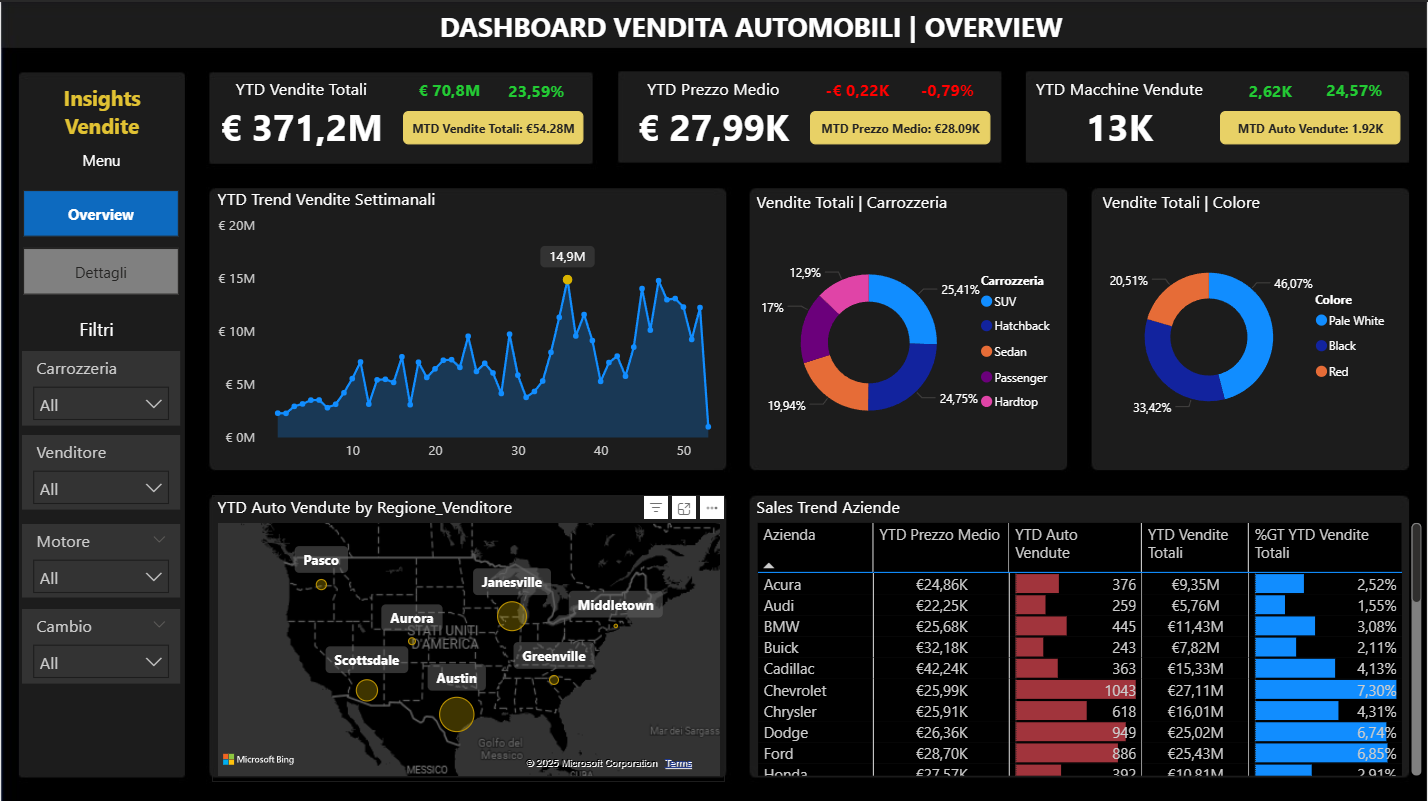

The page's visual inventory and layout, read from the dashboard file:
{"tool":"powerbi","page":{"name":"Overview","canvas":[1280,720],"ordinal":0},"visuals":[{"type":"card","title":"YTD Vendite Totali","fields":{"Values":["_misure.YTD Vendite Totali"]},"box":[189,67,160.6,69.7],"z":0},{"type":"card","fields":{"Values":["_misure.Differenza Vendite"]},"box":[363.6,67.3,78.1,27.8],"z":1000},{"type":"card","fields":{"Values":["_misure.YoY Crescita"]},"box":[441.3,67,78,28.4],"z":2000},{"type":"card","fields":{"Values":["_misure.Testo MYTD"]},"box":[361.3,98.1,162.3,30.3],"z":3000},{"type":"card","title":"YTD Prezzo Medio","fields":{"Values":["_misure.YTD Prezzo Medio"]},"box":[559.3,66.9,160.5,69.7],"z":4000},{"type":"card","fields":{"Values":["_misure.Prezzo Medio Differenza"]},"box":[729.9,66.9,77.9,27.5],"z":5000},{"type":"card","fields":{"Values":["_misure.YoY Prezzo Medio"]},"box":[810.5,66,77.9,28.4],"z":6000},{"type":"card","fields":{"Values":["_misure.Testo MTD Prezzo Medio"]},"box":[726.2,98.1,162.3,30.3],"z":7000},{"type":"card","title":"YTD Macchine Vendute","fields":{"Values":["_misure calcolate.YTD Auto Vendute"]},"box":[921.1,67.3,166.1,69.1],"z":8000},{"type":"card","fields":{"Values":["_misure calcolate.Auto Vendute Differenza"]},"box":[1100.3,66.9,77.9,28.4],"z":9000},{"type":"card","fields":{"Values":["_misure calcolate.YoY Auto Vendute"]},"box":[1176.4,66,77.9,28.4],"z":10000},{"type":"card","fields":{"Values":["_misure calcolate.Testo MTD Auto Vendute"]},"box":[1094.8,98.1,162.3,30.3],"z":11000},{"type":"areaChart","title":"YTD Trend Vendite Settimanali","fields":{"Y":["Sum(car_data.Prezzo (€))","_misure calcolate.Picco Massimo Grafico Area"],"Category":["calendario.Settimana"]},"box":[189.4,166.1,460.5,255],"z":12000},{"type":"donutChart","title":"Vendite Totali | Carrozzeria","fields":{"Y":["_misure calcolate.Vendite Totali"],"Category":["car_data.Carrozzeria"]},"box":[673,168.9,285.4,253.8],"z":13000},{"type":"donutChart","title":"Vendite Totali | Colore","fields":{"Y":["_misure calcolate.Vendite Totali"],"Category":["car_data.Colore"]},"box":[983.7,168.9,271.9,243.9],"z":14000},{"type":"map","fields":{"Category":["car_data.Regione_Venditore"],"Size":["_misure calcolate.YTD Auto Vendute"]},"box":[189.7,442.6,460.7,257.4],"z":15000},{"type":"tableEx","title":"Sales Trend Aziende","fields":{"Values":["car_data.Compagnia","_misure calcolate.YTD Prezzo Medio","_misure calcolate.YTD Auto Vendute","_misure calcolate.YTD Vendite Totali1","_misure calcolate.YTD Vendite Totali"]},"box":[673,442.6,607,257.4],"z":16000},{"type":"textbox","box":[377.6,0,590.8,45.2],"z":17000},{"type":"slicer","fields":{"Values":["car_data.Carrozzeria"]},"box":[18.9,313.3,141.8,67.3],"z":18000},{"type":"slicer","fields":{"Values":["car_data.Nome_Venditore"]},"box":[18.9,388.7,141.8,67.3],"z":19000},{"type":"slicer","fields":{"Values":["car_data.Motore"]},"box":[18.9,468.6,141.8,65.5],"z":20000},{"type":"slicer","fields":{"Values":["car_data.Cambio"]},"box":[18.9,544.9,141.8,67.3],"z":21000},{"type":"textbox","box":[65.5,277.4,48.5,35],"z":22000},{"type":"textbox","box":[18.9,68.2,143.6,60.1],"z":22001},{"type":"textbox","box":[68.2,128.4,48.5,28.7],"z":22002},{"type":"pageNavigator","box":[19.8,168.8,140.9,95.2],"z":22003}]}

Visuals, with their boxes in screenshot pixels (x1, y1, x2, y2), scaled from the page's 1280x720 canvas onto the 1428x801 screenshot:
"YTD Vendite Totali" card: 211 75 390 152
card - _misure.Differenza Vendite: 406 75 493 106
card - _misure.YoY Crescita: 492 75 579 106
card - _misure.Testo MYTD: 403 109 584 143
"YTD Prezzo Medio" card: 624 74 803 152
card - _misure.Prezzo Medio Differenza: 814 74 901 105
card - _misure.YoY Prezzo Medio: 904 73 991 105
card - _misure.Testo MTD Prezzo Medio: 810 109 991 143
"YTD Macchine Vendute" card: 1028 75 1213 152
card - _misure calcolate.Auto Vendute Differenza: 1228 74 1314 106
card - _misure calcolate.YoY Auto Vendute: 1312 73 1399 105
card - _misure calcolate.Testo MTD Auto Vendute: 1221 109 1402 143
"YTD Trend Vendite Settimanali" areaChart: 211 185 725 468
"Vendite Totali | Carrozzeria" donutChart: 751 188 1069 470
"Vendite Totali | Colore" donutChart: 1097 188 1401 459
map - car_data.Regione_Venditore x _misure calcolate.YTD Auto Vendute: 212 492 726 779
"Sales Trend Aziende" tableEx: 751 492 1427 779
textbox: 421 0 1080 50
slicer - car_data.Carrozzeria: 21 349 179 423
slicer - car_data.Nome_Venditore: 21 432 179 507
slicer - car_data.Motore: 21 521 179 594
slicer - car_data.Cambio: 21 606 179 681
textbox: 73 309 127 348
textbox: 21 76 181 143
textbox: 76 143 130 175
pageNavigator: 22 188 179 294
